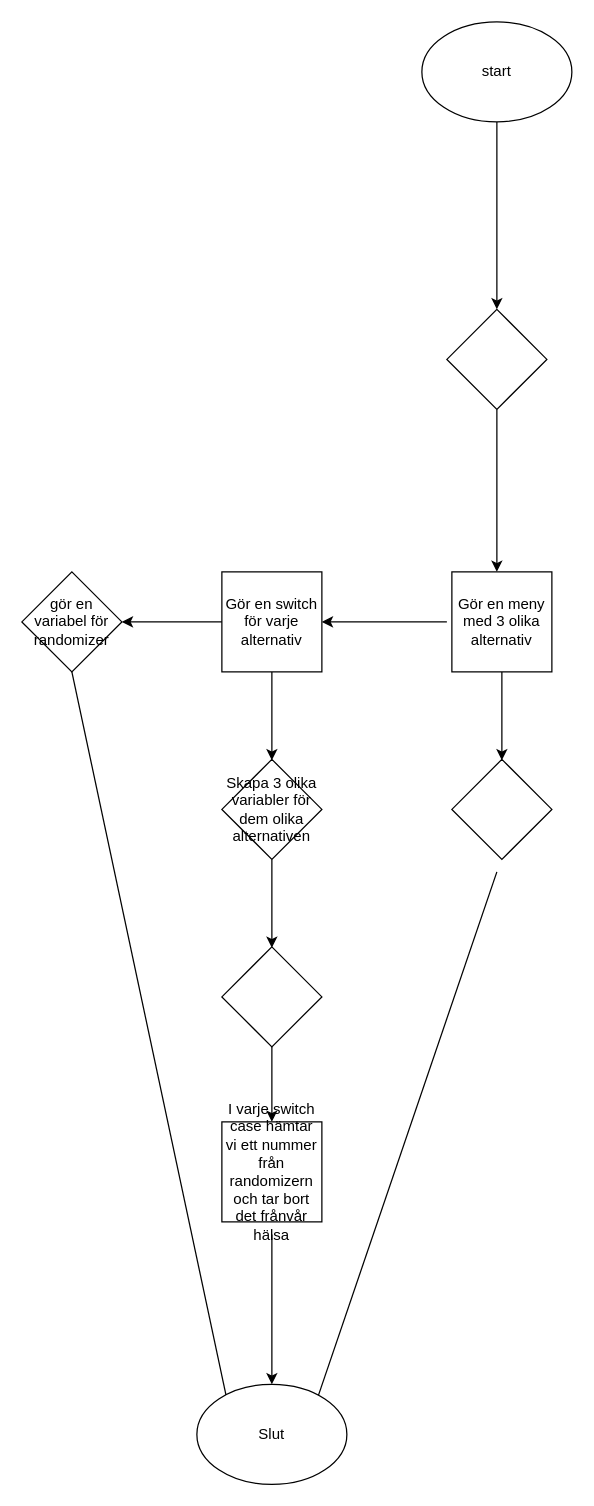
The diagram is 594 pixels wide and 1506 high, and some of its shapes have lost their labels. The shapes that lost their labels are listed below. From the top down, each one's centre as x and y in pixels, then its label:
At [496,358]: "Läs in tangentbordet och gör en int av".
At [501,808]: "Skapa 1 variabel som sparar valet.".
At [271,996]: "Skapa en variabel för hälsan och ge den ett startvärde på 100".
